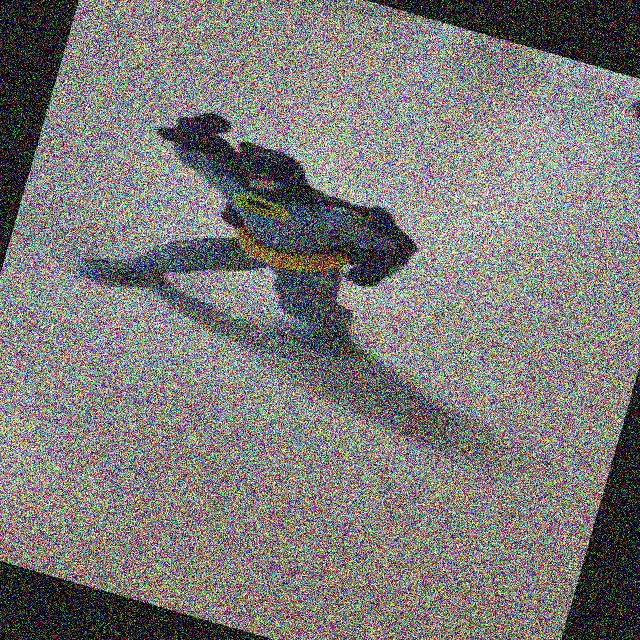Batman: (58, 73, 514, 435)
